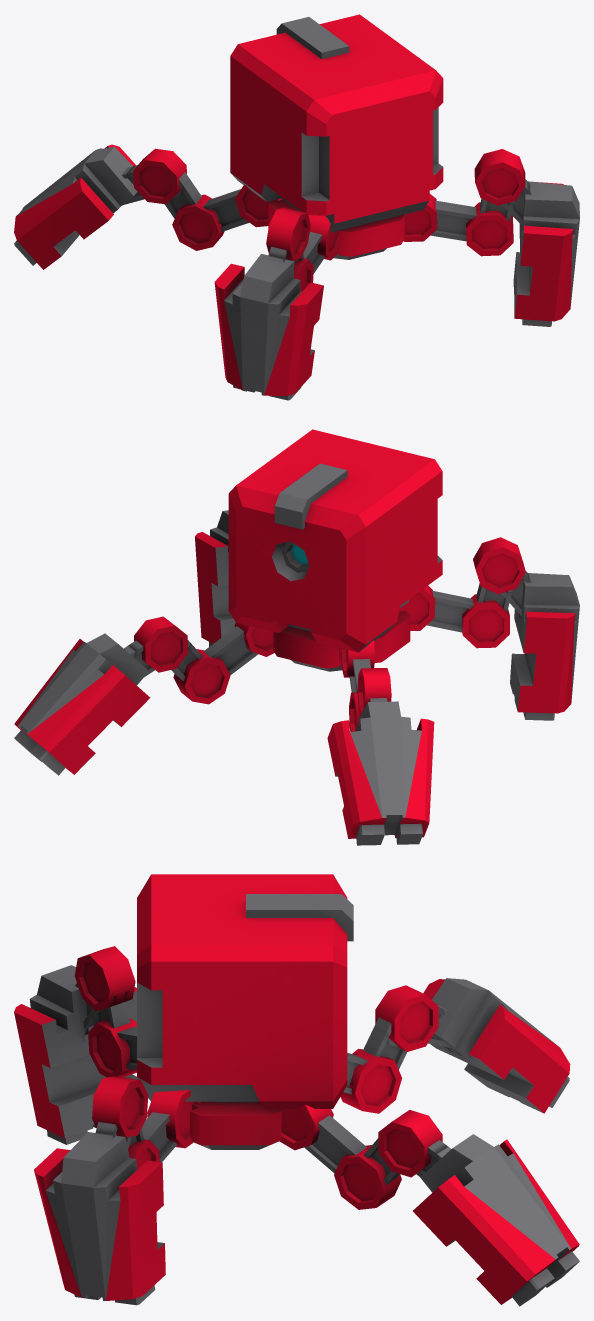
File: Monster1_Attack14.obj
The picture shows the model from 3 angles, top to bottom: view 1: azimuth 30°, elevation 25°; view 2: azimuth 150°, elevation 25°; view 3: azimuth 270°, elevation 25°; orthographic projection. The views are drawn at different scales.
Visible parts, largest first — view 1: Box006, Object021, Object025, Object017, Object020, Object027, Object028, Object018, Object019, Object024, Object026, Object022 (+1 smaller); view 2: Box006, Object025, Object013, Object021, Object017, Object024, Object016, Object023, Object015, Object022, Object014, Object028 (+1 smaller); view 3: Box006, Object017, Object013, Object025, Object021, Object027, Object016, Object014, Object028, Object024, Object020, Object015 (+3 smaller).
Part boxes in pixels (x1=…): Box006: x1=230, y1=14, x2=443, y2=259; Object021: x1=214, y1=254, x2=323, y2=400; Object025: x1=14, y1=144, x2=137, y2=269; Object017: x1=513, y1=181, x2=579, y2=326; Object020: x1=474, y1=149, x2=532, y2=225; Object027: x1=165, y1=172, x2=224, y2=250; Object028: x1=122, y1=148, x2=186, y2=204; Object018: x1=403, y1=193, x2=476, y2=241; Object019: x1=466, y1=198, x2=514, y2=256; Object024: x1=266, y1=207, x2=310, y2=263; Object026: x1=203, y1=184, x2=282, y2=232; Object022: x1=303, y1=215, x2=338, y2=273; Box006: x1=228, y1=429, x2=442, y2=671; Object025: x1=327, y1=701, x2=434, y2=845; Object013: x1=14, y1=633, x2=150, y2=775; Object021: x1=510, y1=573, x2=579, y2=720; Object017: x1=195, y1=510, x2=235, y2=646; Object024: x1=473, y1=537, x2=532, y2=615; Object016: x1=123, y1=616, x2=188, y2=676; Object023: x1=462, y1=583, x2=512, y2=648; Object015: x1=171, y1=640, x2=230, y2=704; Object022: x1=399, y1=585, x2=473, y2=632; Object014: x1=203, y1=623, x2=274, y2=674; Object028: x1=357, y1=668, x2=391, y2=715; Box006: x1=137, y1=874, x2=353, y2=1149; Object017: x1=34, y1=1132, x2=165, y2=1305; Object013: x1=413, y1=1134, x2=579, y2=1306; Object025: x1=423, y1=978, x2=570, y2=1113; Object021: x1=14, y1=965, x2=136, y2=1144; Object027: x1=340, y1=1017, x2=406, y2=1113; Object016: x1=378, y1=1110, x2=450, y2=1177; Object014: x1=277, y1=1105, x2=366, y2=1173; Object028: x1=375, y1=985, x2=451, y2=1051; Object024: x1=74, y1=946, x2=135, y2=1028; Object020: x1=92, y1=1076, x2=148, y2=1150; Object015: x1=334, y1=1138, x2=401, y2=1209.
Bounding box in the file's own units: 157 × 95.98 × 159.
